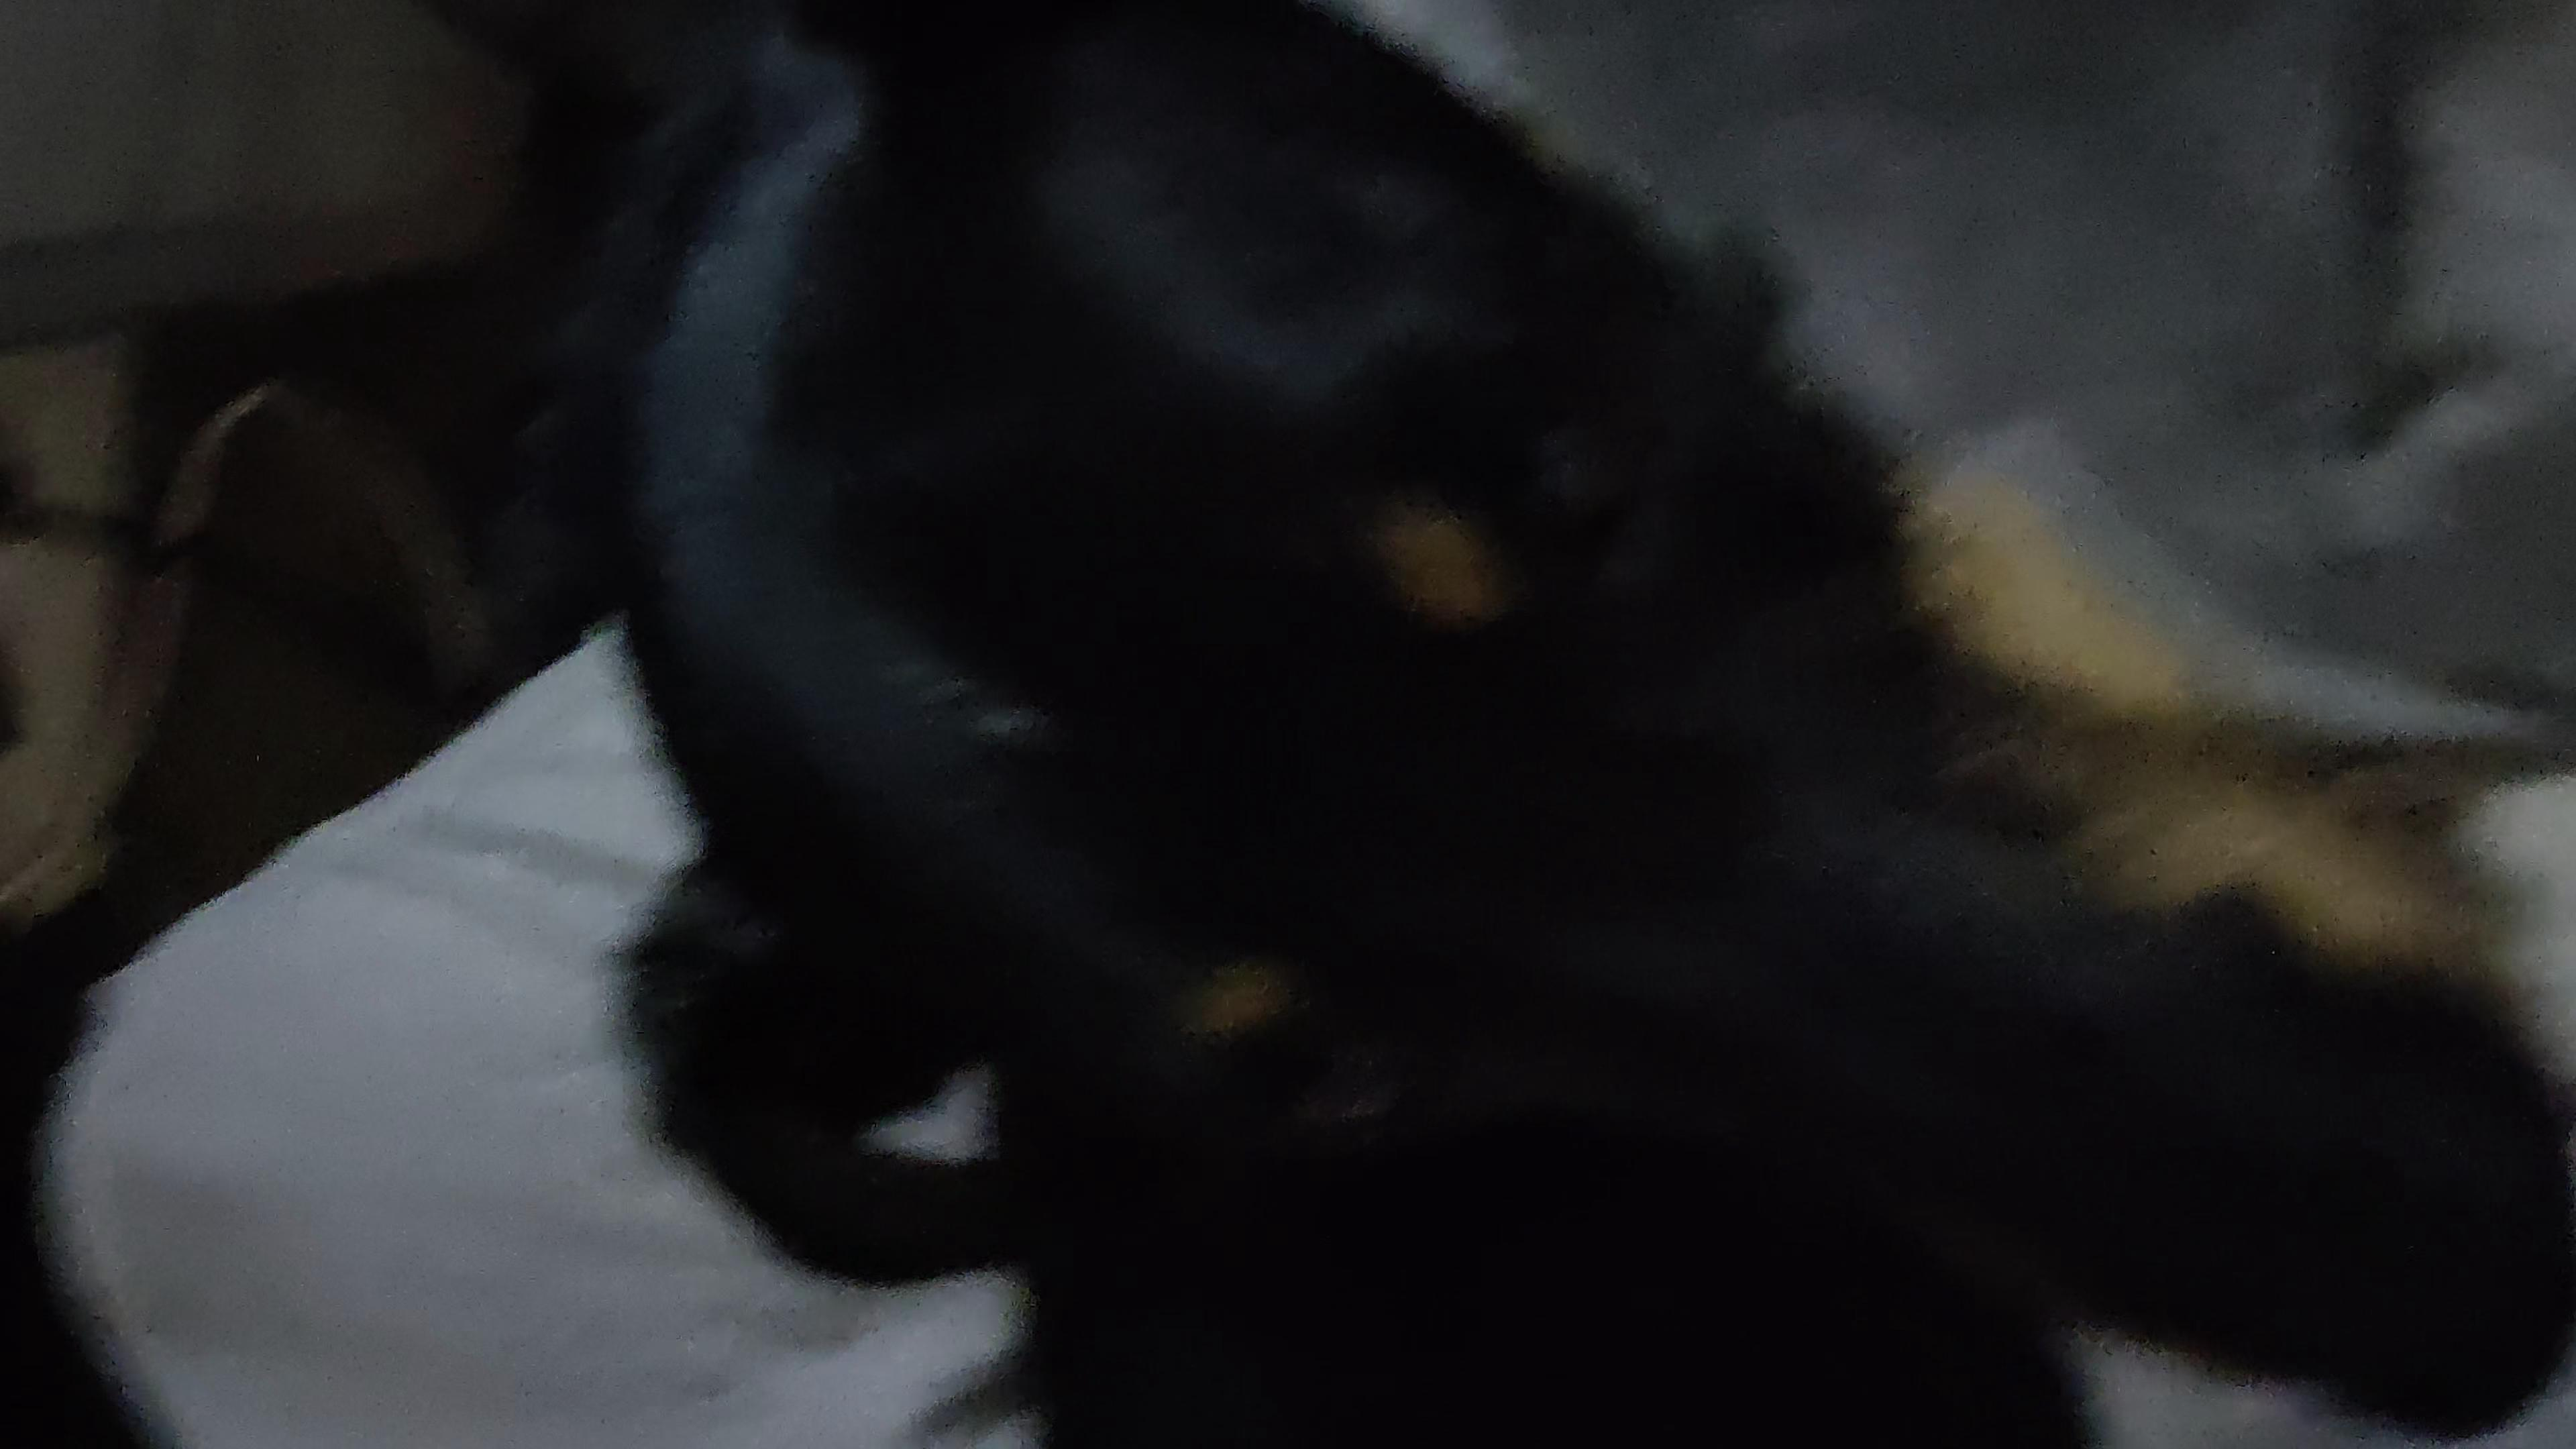Dog: (502, 0, 2576, 1449)
